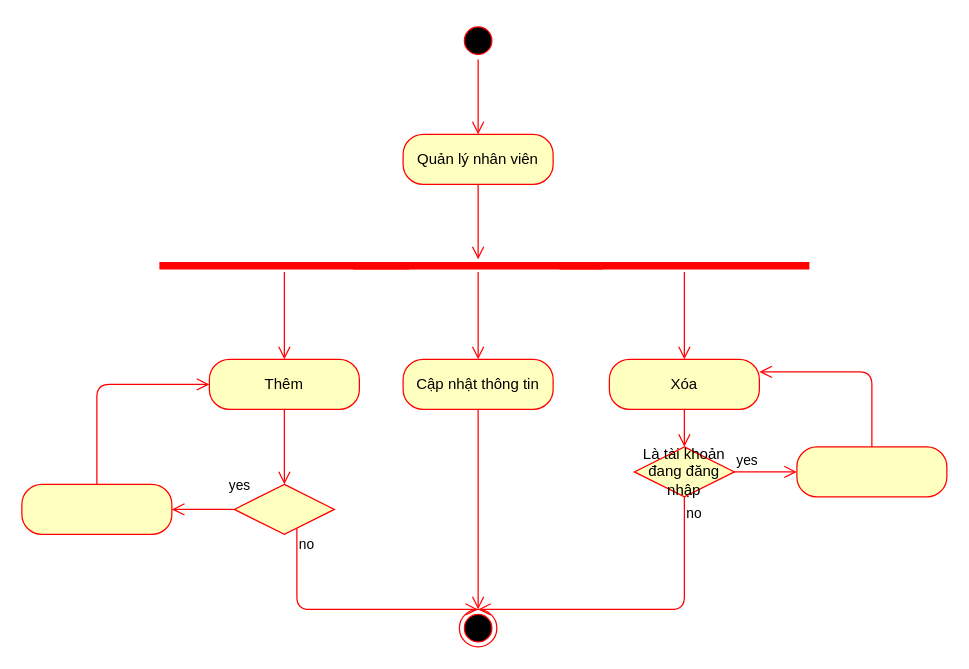
Some shapes in this 969 by 669 pixel diagram are drawn without their labels. Each missing label, with the box of its shape:
Không được xóa: (796, 446, 947, 497)
Kiểm tra tồn tại: (233, 483, 334, 534)
Nhập lại: (21, 483, 172, 534)
